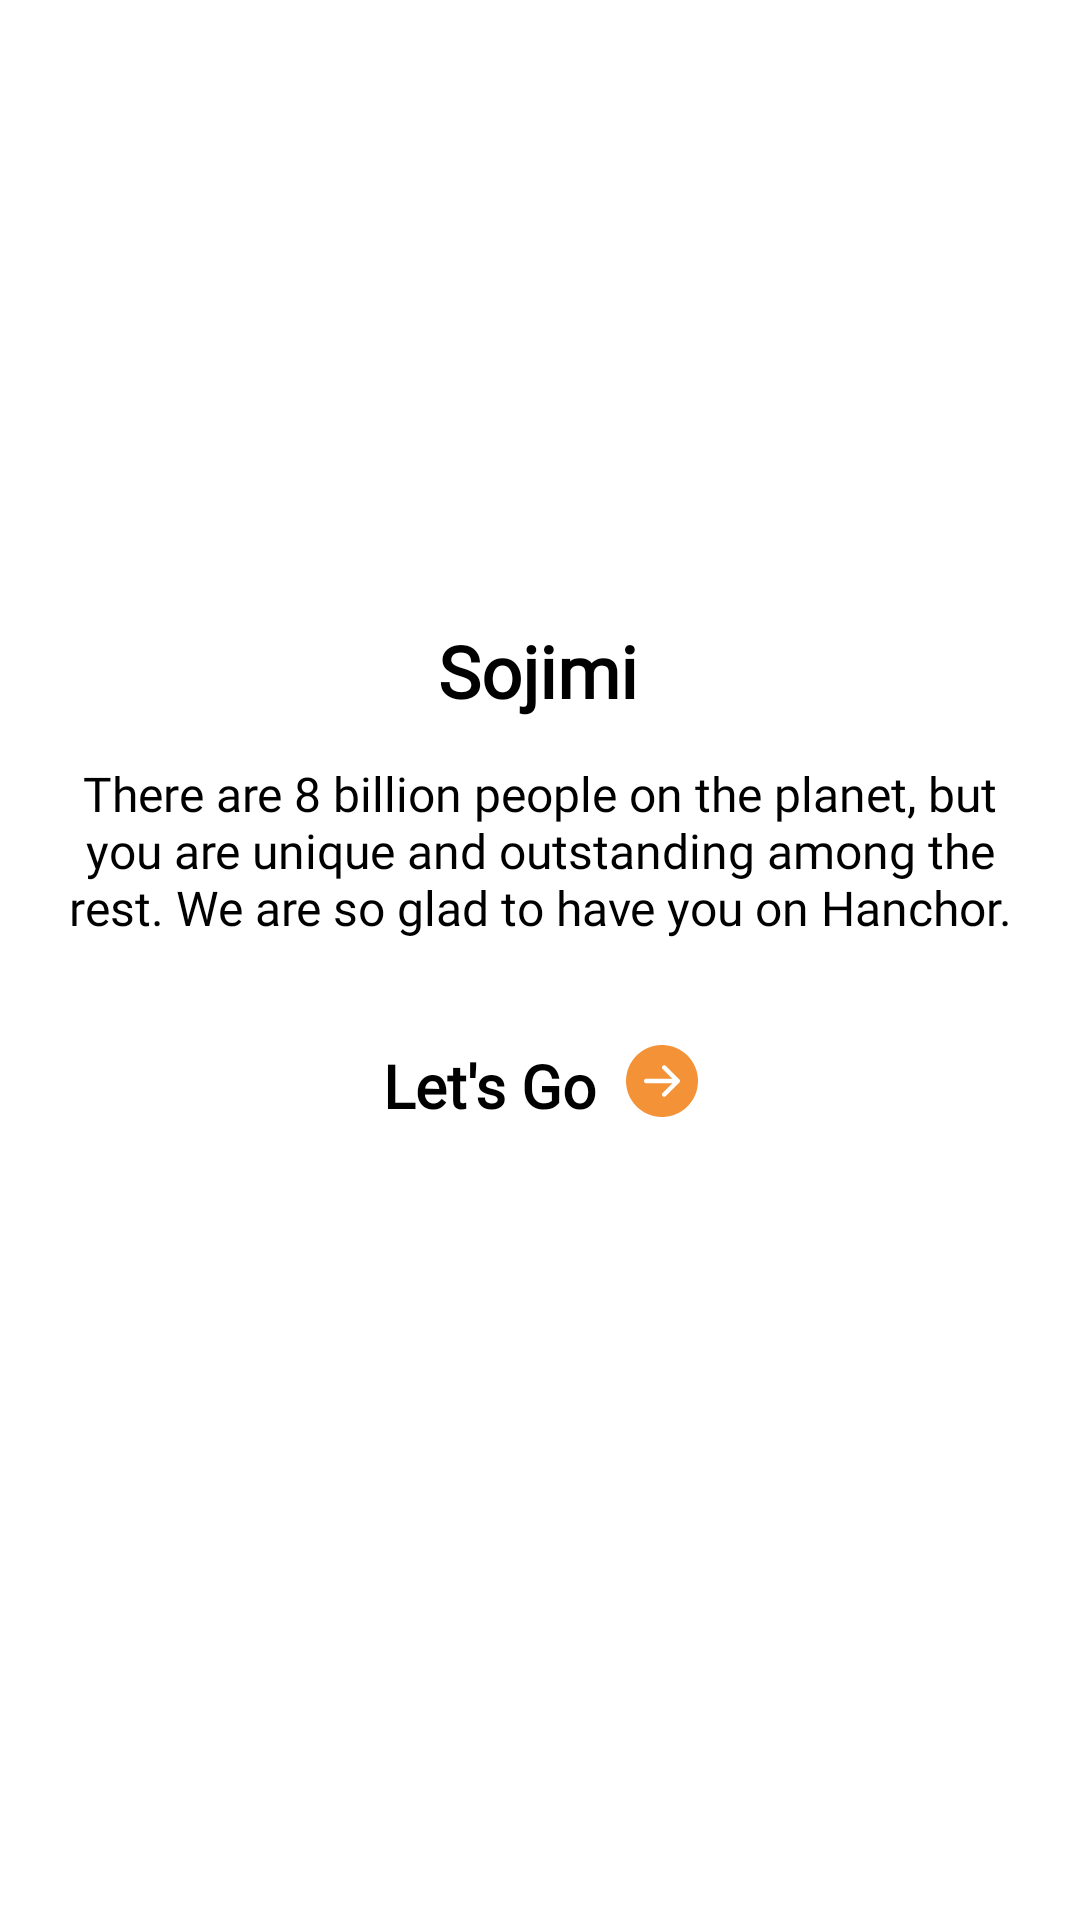

Locate icon controls on the screen. Image size 1080 × 1920, boxes as (x1, y1, x2, y2).
next dash: (626, 1045, 698, 1117)
